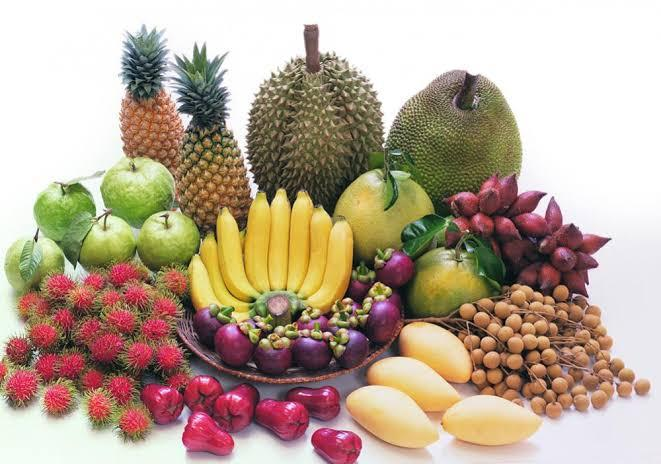chom_chom: (151, 334, 188, 378), (24, 317, 69, 353), (4, 362, 38, 408), (116, 403, 154, 441), (42, 379, 81, 416), (83, 330, 125, 362)
chuoi: (189, 191, 354, 314)
mang_cut: (361, 292, 404, 348), (216, 322, 260, 368), (371, 247, 419, 289), (293, 326, 333, 373)
sau_rieng: (249, 51, 383, 192)
xoai: (347, 384, 439, 447), (444, 395, 542, 446), (403, 321, 471, 383)
